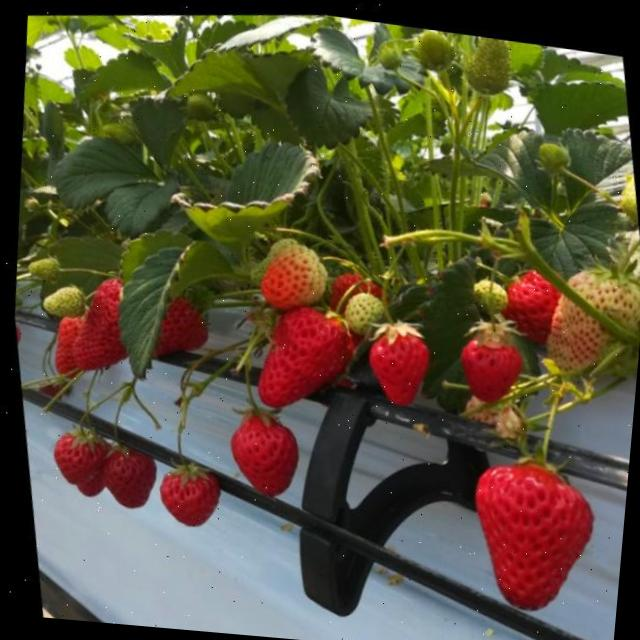ripe: (442, 434, 609, 632), (230, 288, 366, 422), (210, 396, 312, 508), (350, 310, 442, 420), (127, 277, 220, 372), (67, 266, 144, 380), (444, 319, 533, 409), (143, 452, 225, 540), (37, 414, 112, 509), (493, 253, 566, 345), (88, 436, 160, 521), (36, 302, 101, 388)
